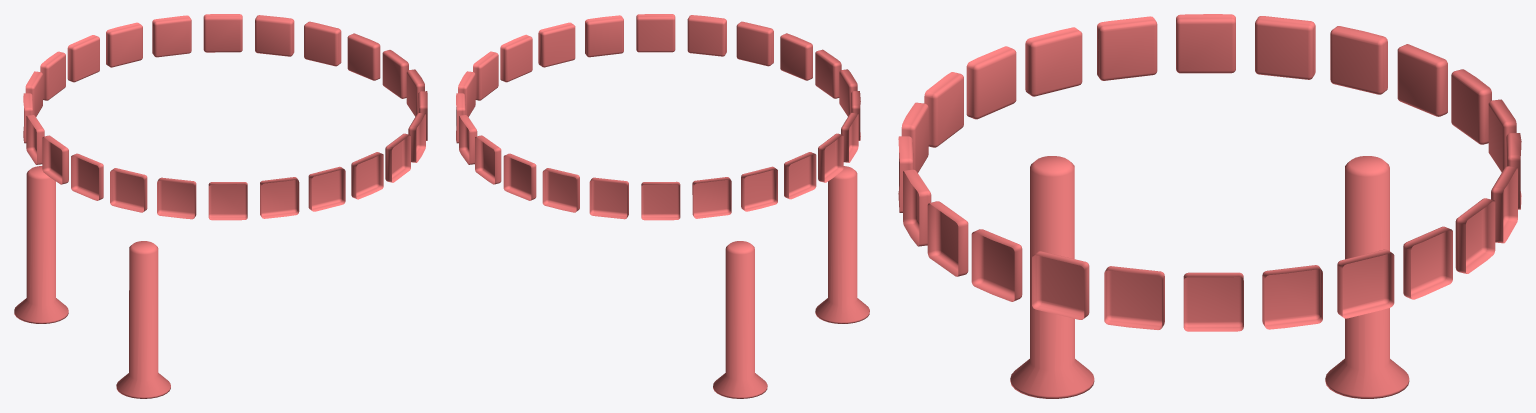
Rendered from solo12_hip_fe_fr_8.obj.
3 renders of one model, left to right at view 1: azimuth 30°, elevation 25°; view 2: azimuth 150°, elevation 25°; view 3: azimuth 270°, elevation 25°, orthographic. The views are drawn at different scales.
Size of the model in its own units: 0.0414 by 0.0246 by 0.0415.
